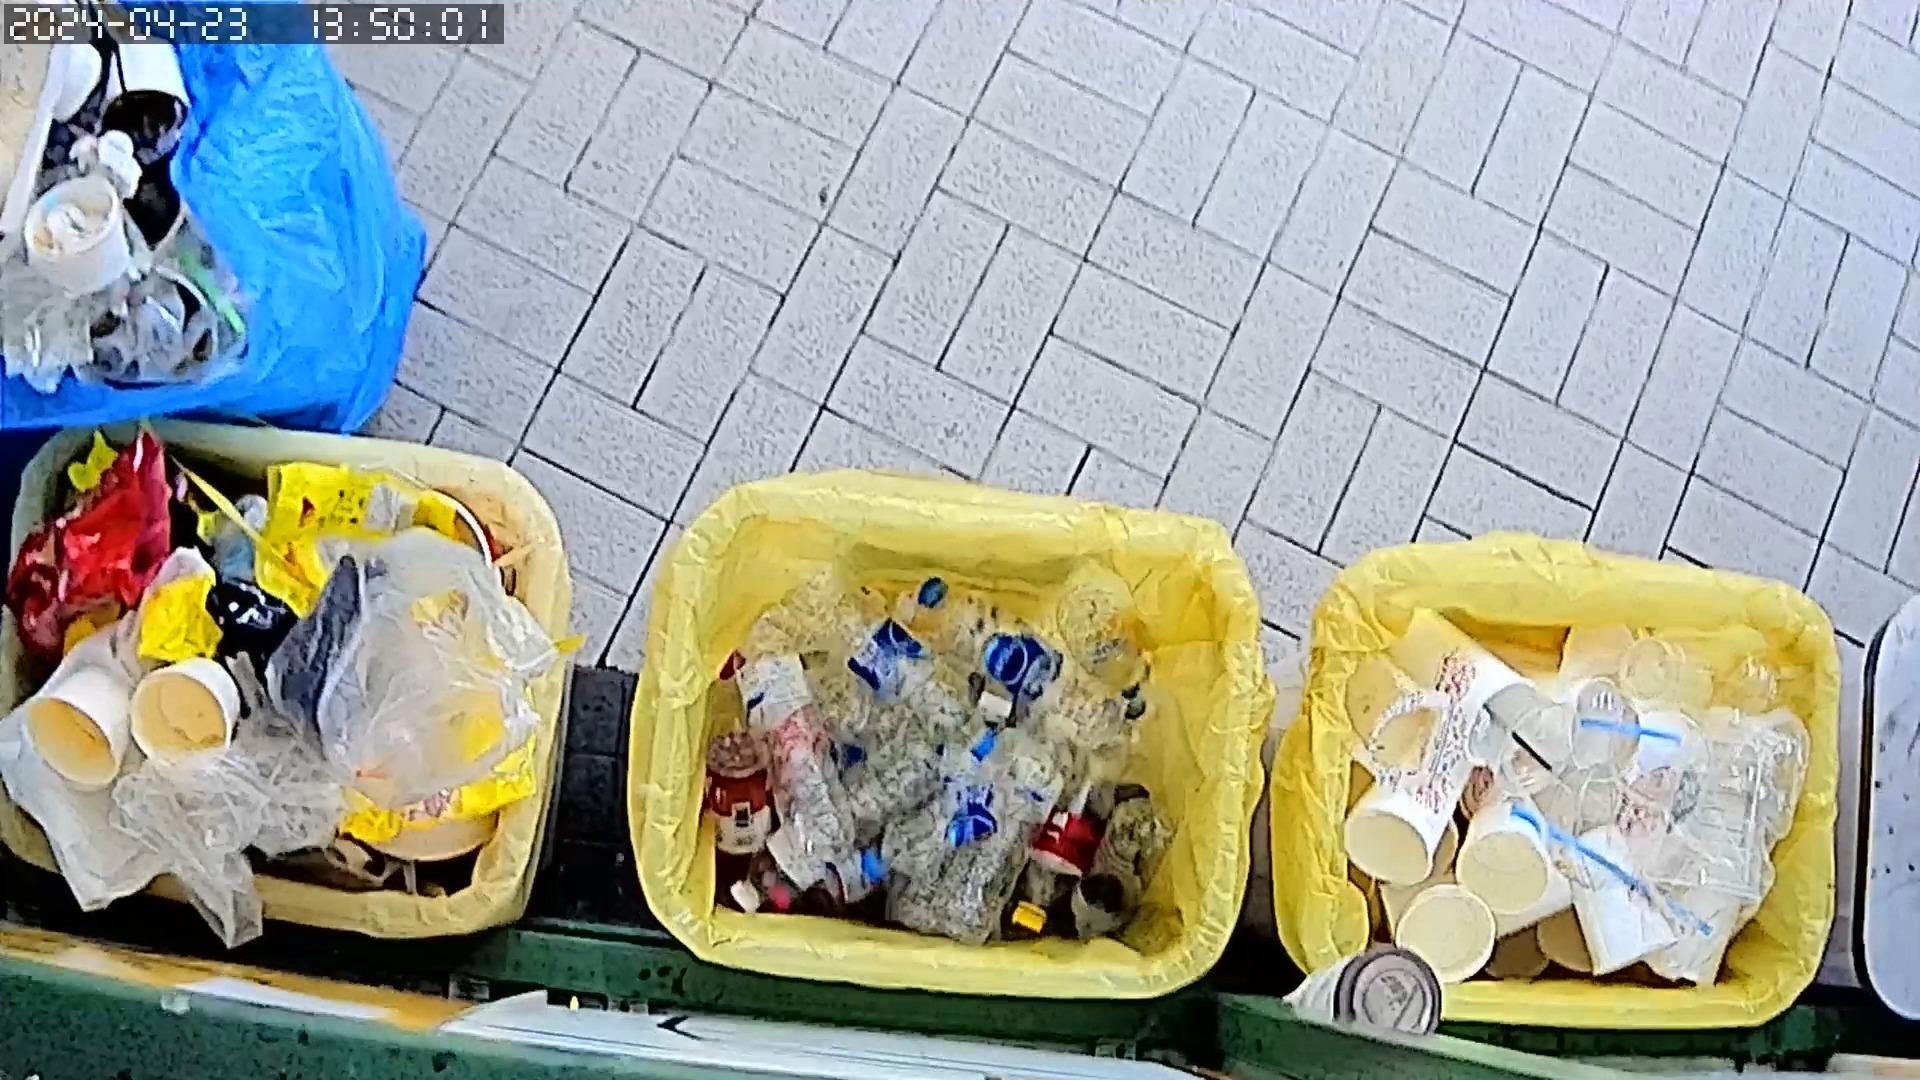can: (712, 732, 781, 860)
filled plastic bag: (257, 527, 545, 802)
food container: (32, 662, 142, 789), (138, 654, 253, 769), (1458, 802, 1559, 915), (1395, 885, 1503, 989)
plastic bag: (111, 691, 429, 969), (0, 600, 218, 918)
plastic bottle: (774, 578, 1018, 778), (737, 724, 948, 915), (924, 575, 1145, 752), (729, 609, 870, 855), (977, 688, 1093, 934), (861, 756, 1054, 887), (1015, 758, 1127, 939), (1067, 798, 1184, 953), (1048, 587, 1160, 723)
plastic cup: (1633, 716, 1799, 923), (1320, 640, 1472, 796), (1564, 827, 1685, 990), (1627, 617, 1789, 727), (1476, 686, 1582, 814), (1565, 676, 1648, 781)
snack packaging: (5, 433, 177, 644), (251, 456, 459, 607), (141, 546, 229, 669)
straw: (1518, 818, 1667, 905), (1478, 699, 1567, 789), (1572, 696, 1688, 761)
zero waste cup: (1383, 605, 1561, 769), (1338, 753, 1476, 890), (1518, 673, 1623, 774)
